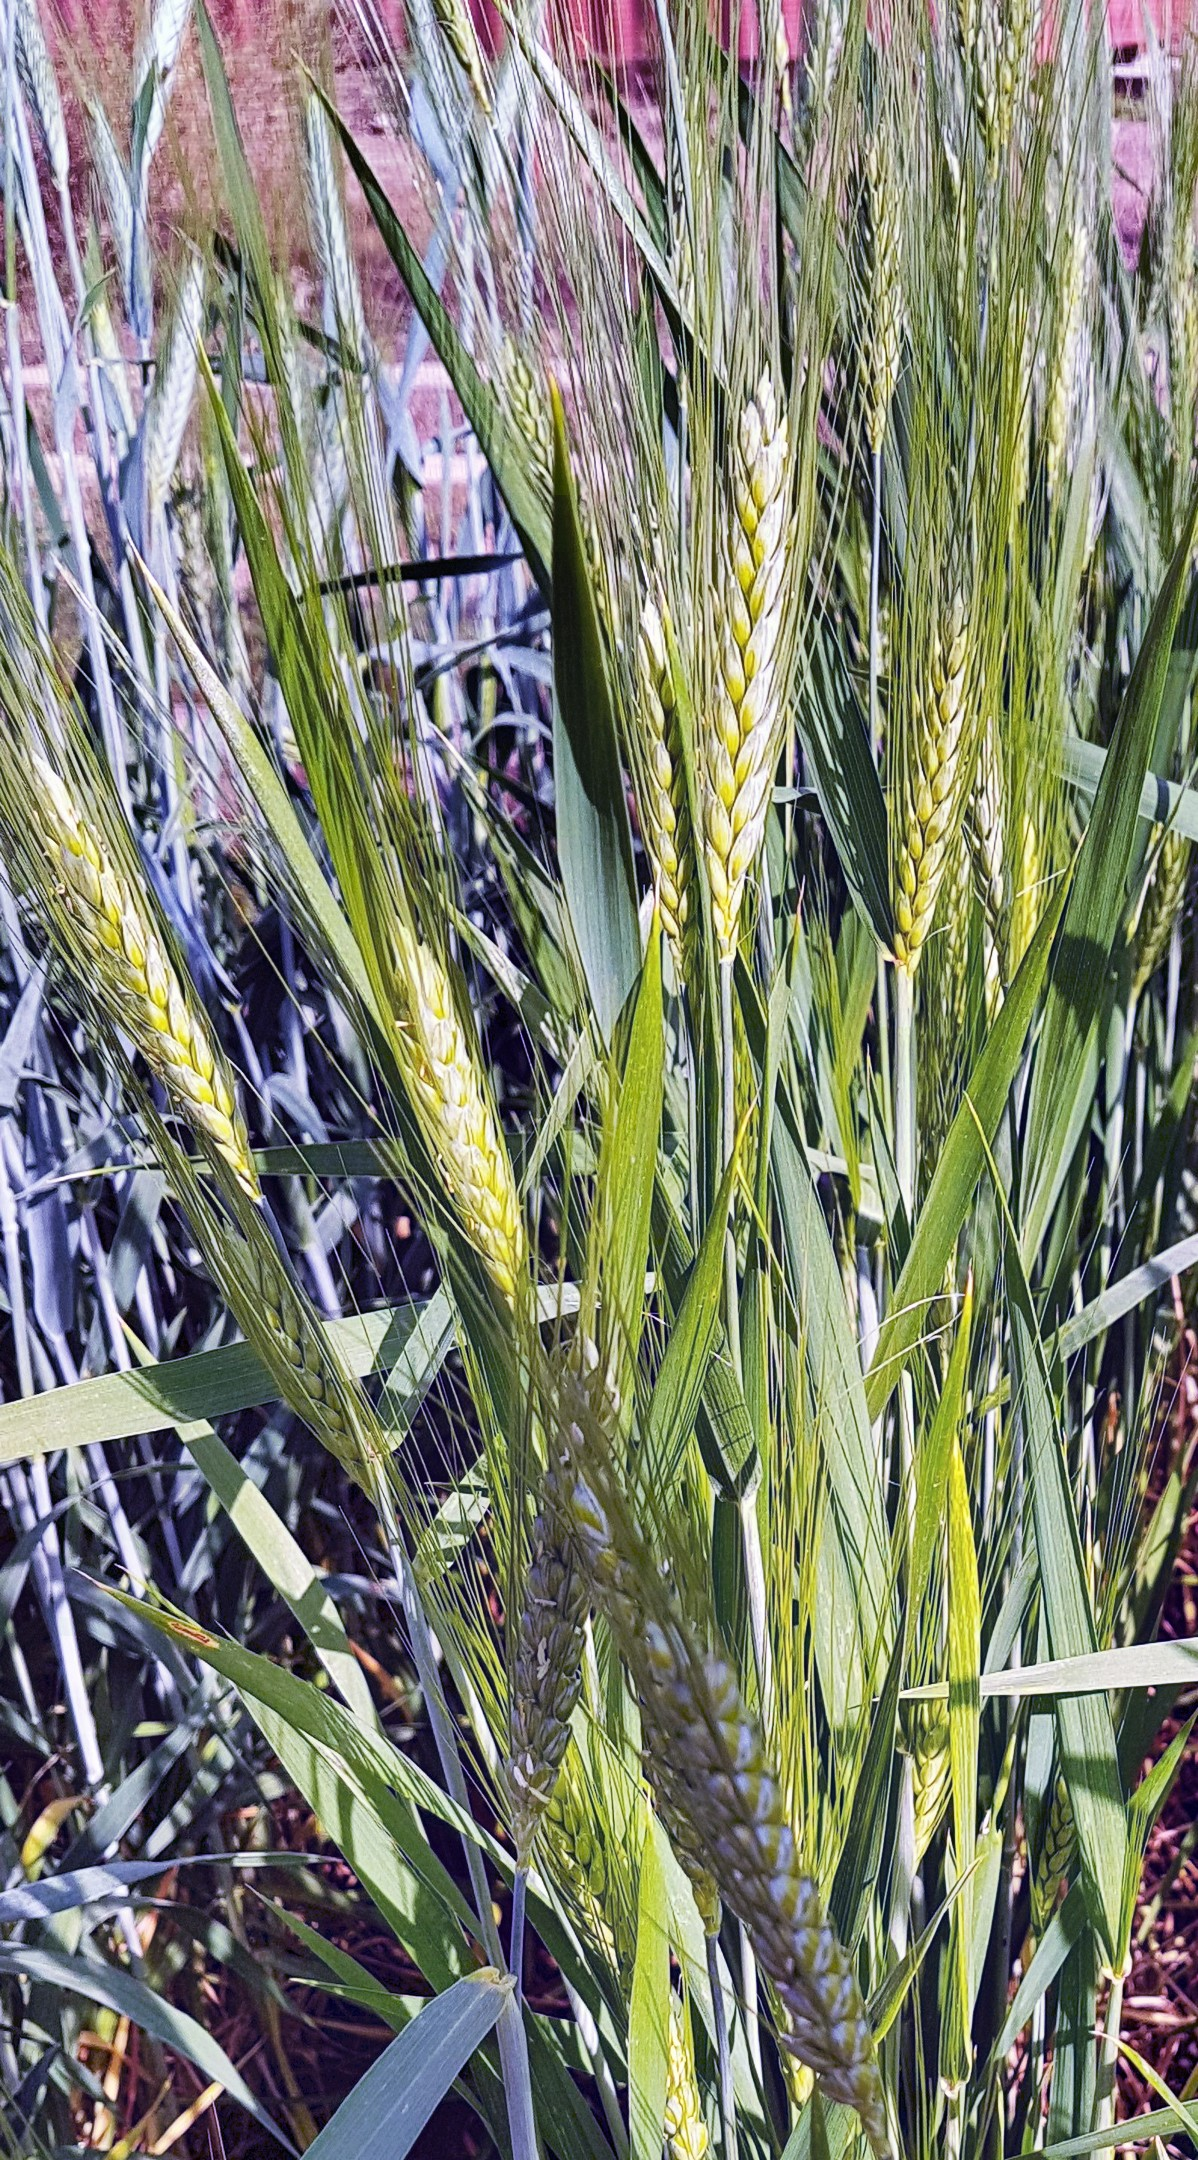Healthy Wheat: (623, 382, 1008, 949)
